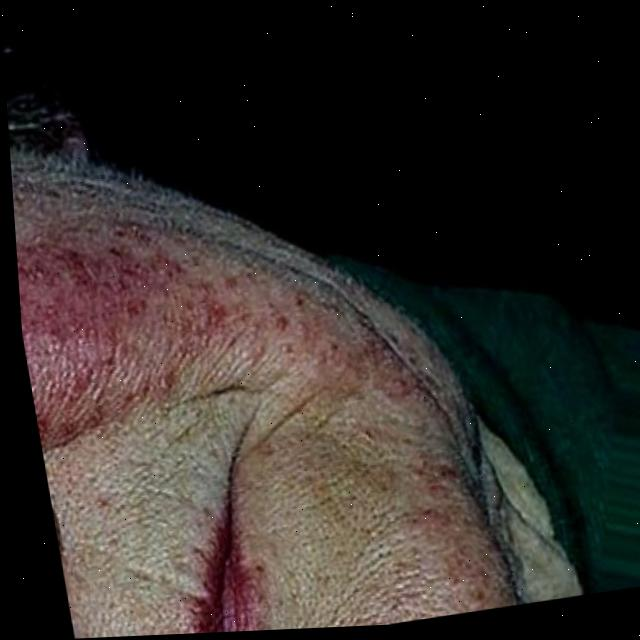Rosacea: (15, 221, 231, 405)
